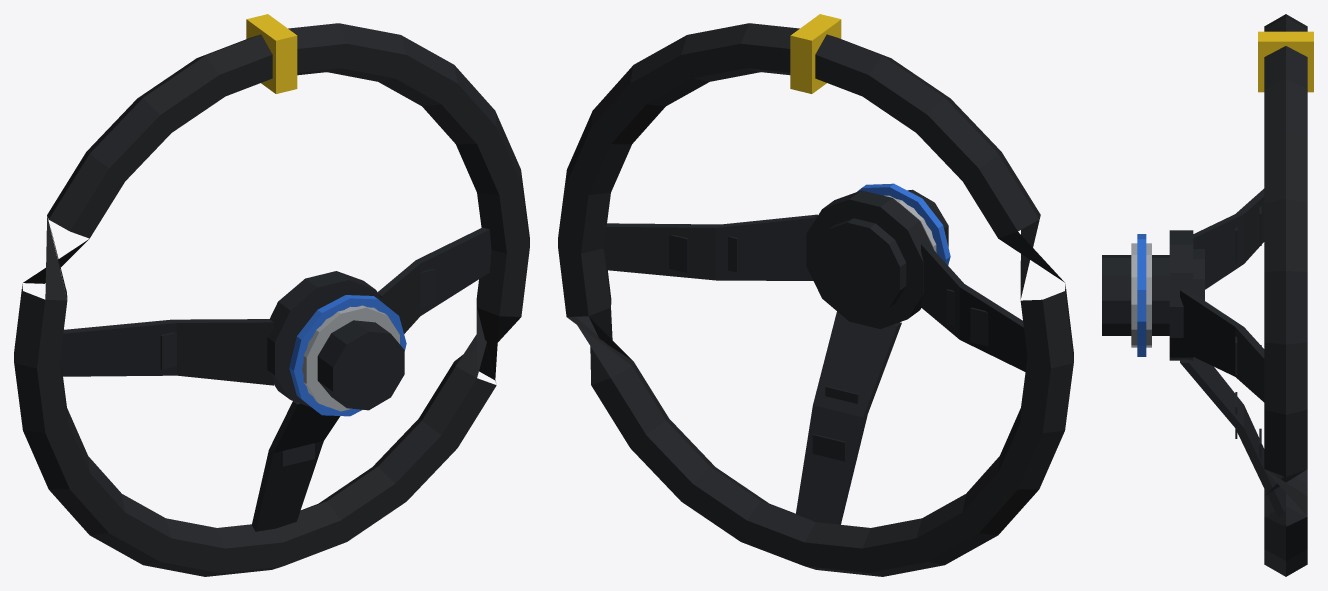
Rendered from steering_wheel_rally_dish.glb.
3 renders of one model, left to right at view 1: azimuth 30°, elevation 25°; view 2: azimuth 150°, elevation 25°; view 3: azimuth 270°, elevation 25°, orthographic. The views are drawn at different scales.
Parts seen in each view (by area): view 1: model; view 2: model; view 3: model.
Part boxes in pixels (x1=…): model: x1=14, y1=14, x2=529, y2=576; model: x1=558, y1=14, x2=1073, y2=576; model: x1=1102, y1=14, x2=1313, y2=576.
Size of the model in its own units: 0.384 by 0.386 by 0.144.
3 materials, 1 textured.
